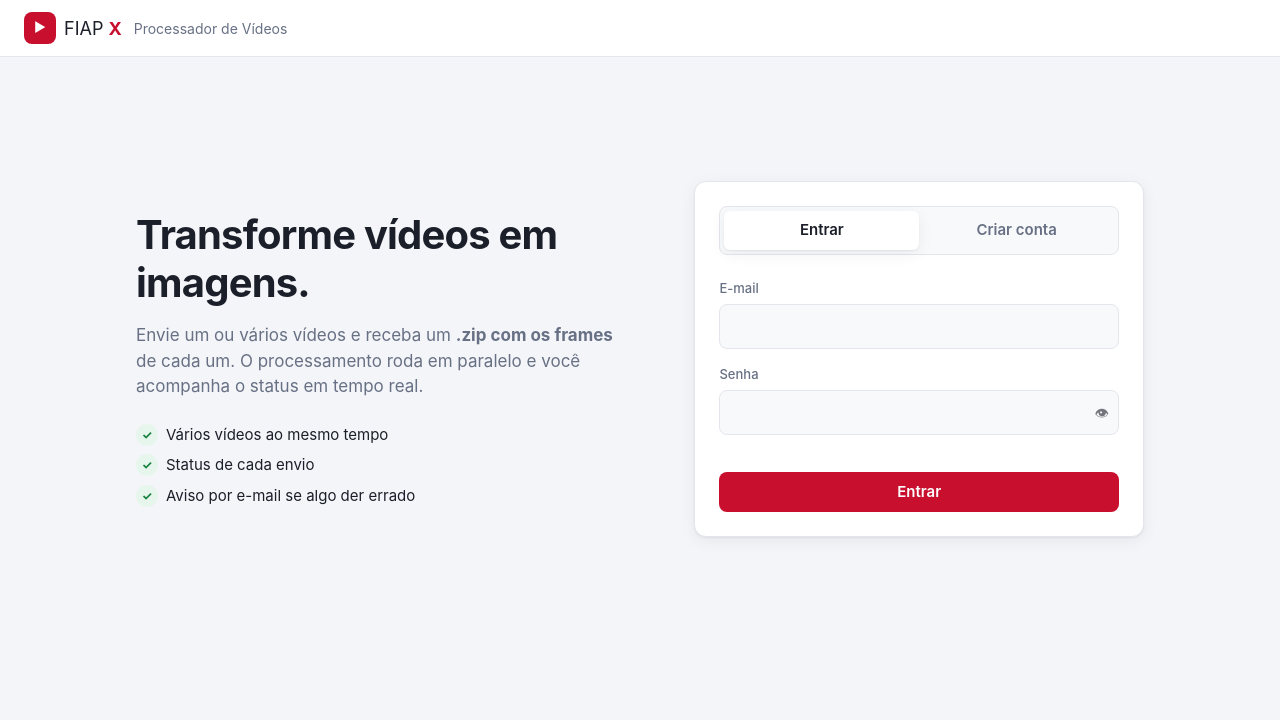
Test case: acesso › mostra o erro de credenciais inválidas
The image size is (1280, 720).
Type "ana@fiapx.com" into the field labelled "E-mail" at (919, 327), box [720,304,1119,349]
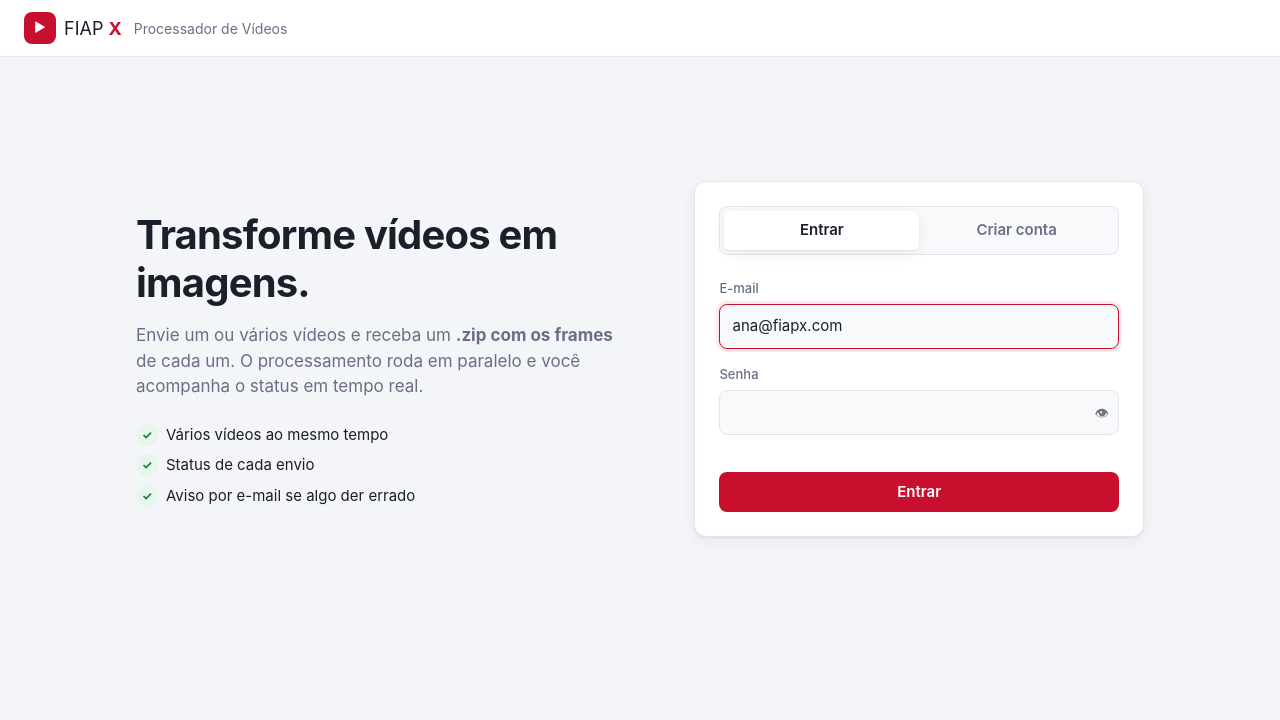
Type "errada123" into the password field labelled "Senha" at (919, 413), box [720,390,1119,435]
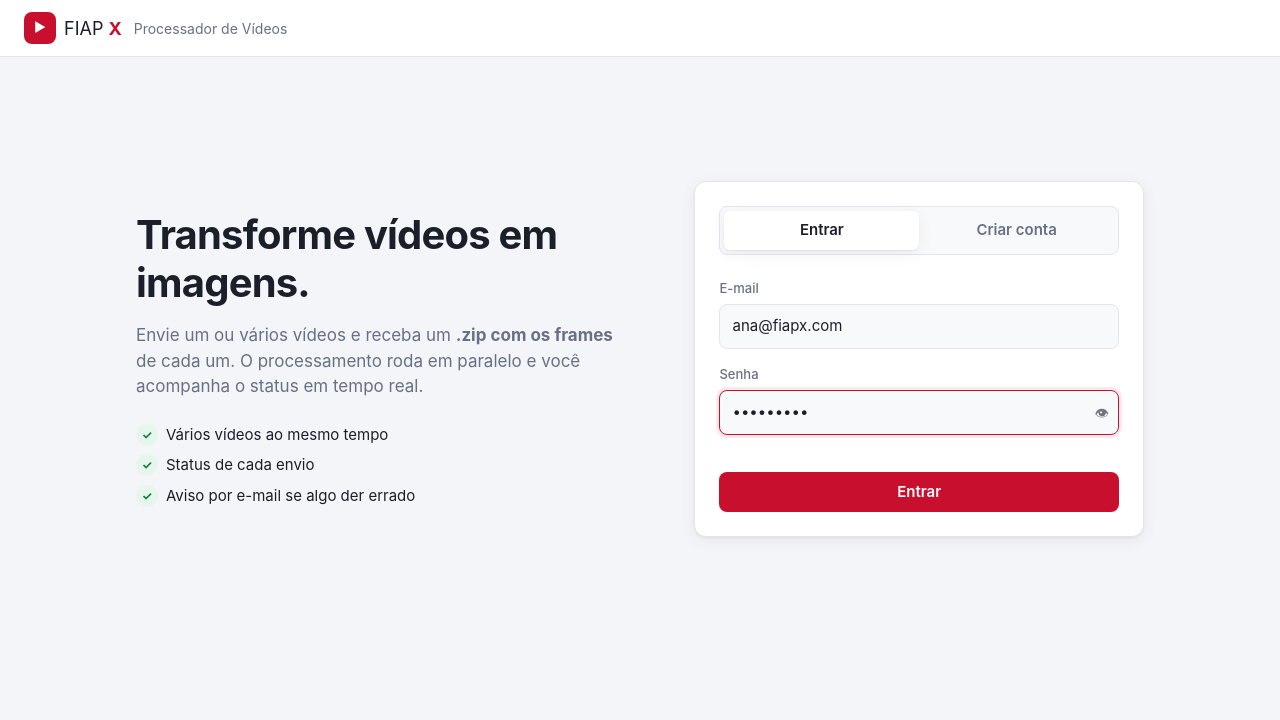
Click the button "Entrar" at (919, 492), box [720,472,1119,512]
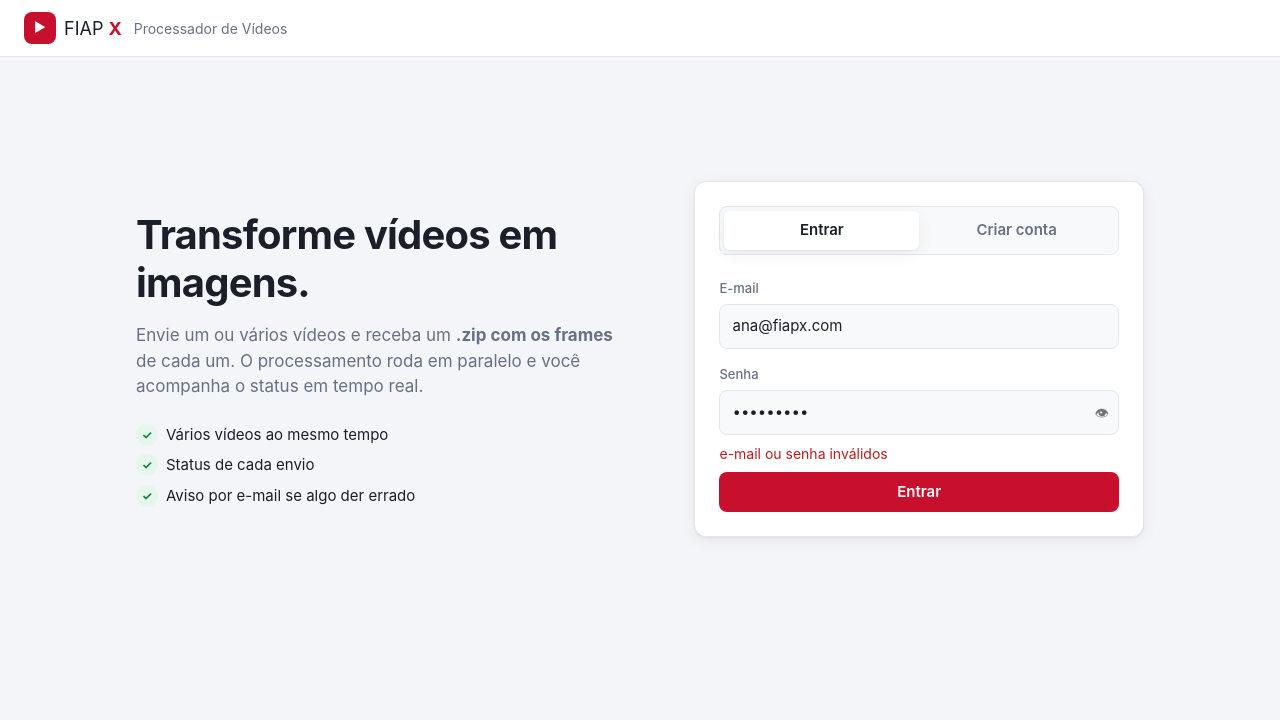
Check: the message reads "e-mail ou senha inválidos", box [720,445,888,462]
